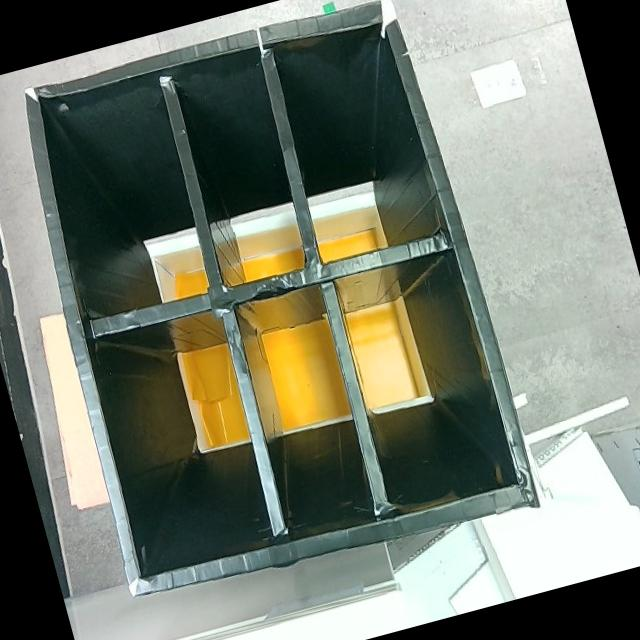box: (0, 0, 542, 612)
